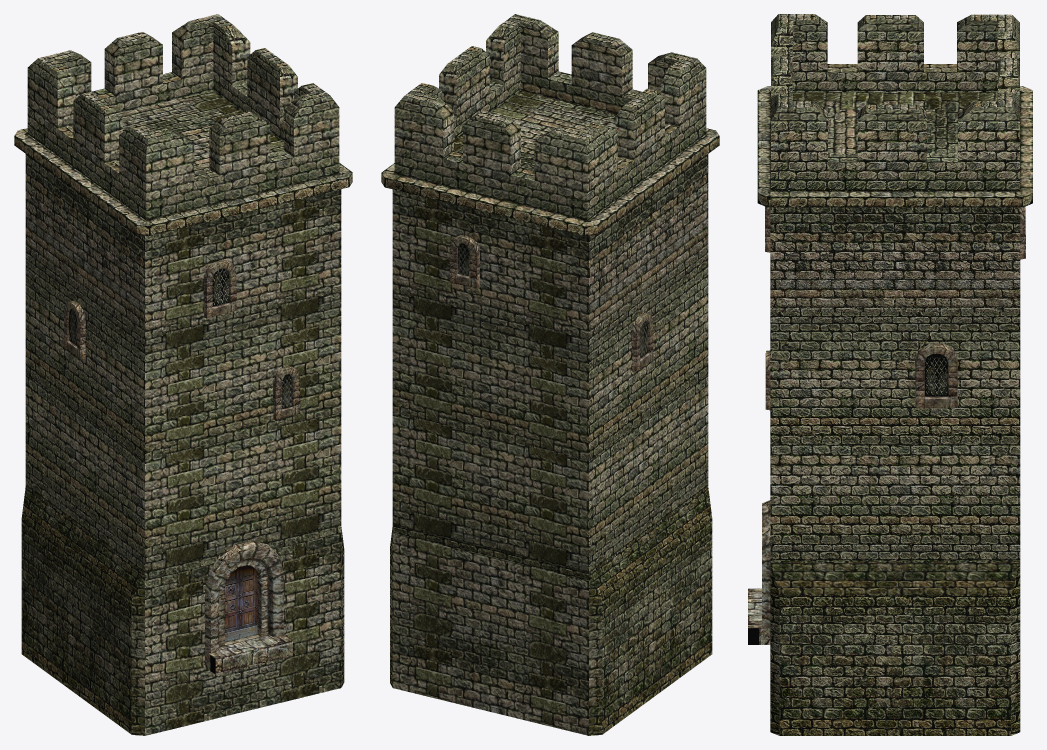
Rendered from tn5_tow.glb.
3 renders of one model, left to right at view 1: azimuth 30°, elevation 25°; view 2: azimuth 150°, elevation 25°; view 3: azimuth 270°, elevation 25°, orthographic. The views are drawn at different scales.
Visible parts, largest first — view 1: tn5_tow-col; view 2: tn5_tow-col; view 3: tn5_tow-col.
Part boxes in pixels (<box>): tn5_tow-col: <box>14,14,352,735</box>; tn5_tow-col: <box>381,14,719,735</box>; tn5_tow-col: <box>748,14,1032,735</box>.
Size of the model in its own units: 8.88 by 23.25 by 9.66.
Materials: 10 (10 with a texture image).
